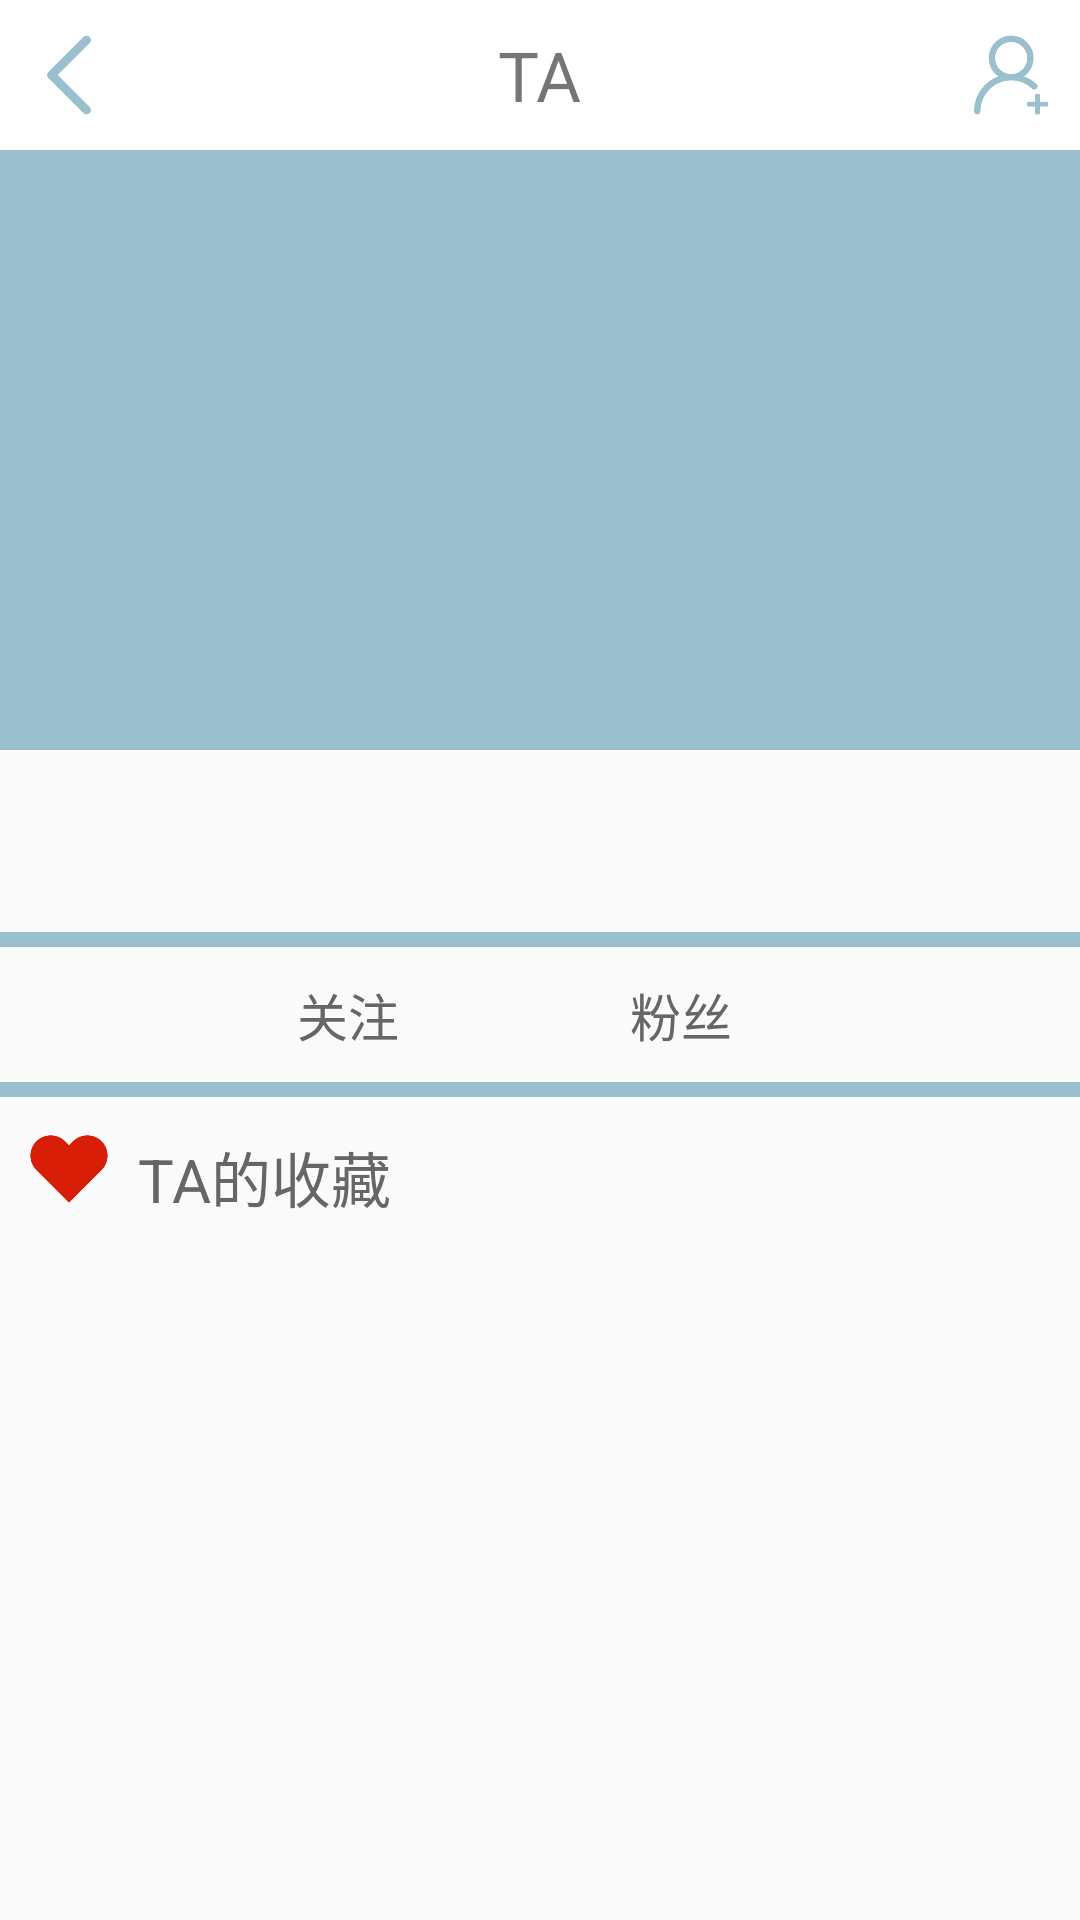

Where icons sit on this 1080 x 1920 app screen, as [x1,y1,x2,y2]:
follow ma: [974,35,1048,115]
heart: [30,1135,108,1203]
returnto: [47,35,91,115]
